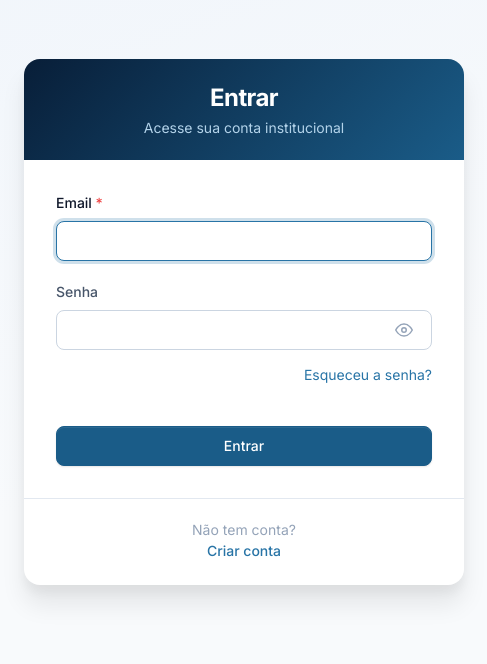
Test: LoginPage › shows fallback error message when error has no message
Type "a@b.com" into the field labelled "Email". click: x=244, y=241
box: [56, 221, 432, 261]
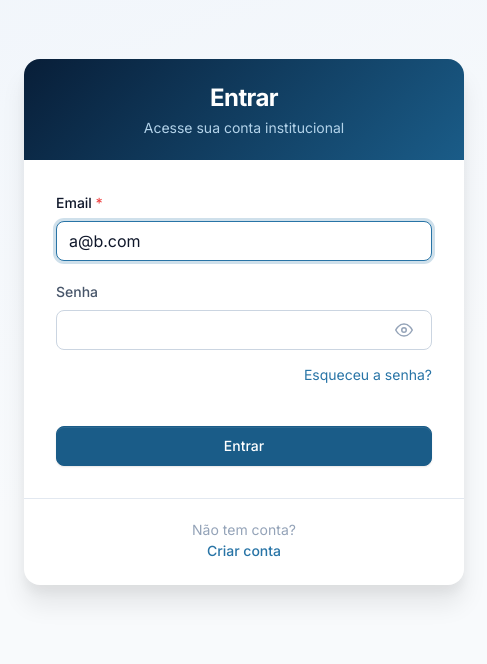
Type "x" into the password field labelled "Senha". click: x=244, y=330
box: [56, 310, 432, 350]
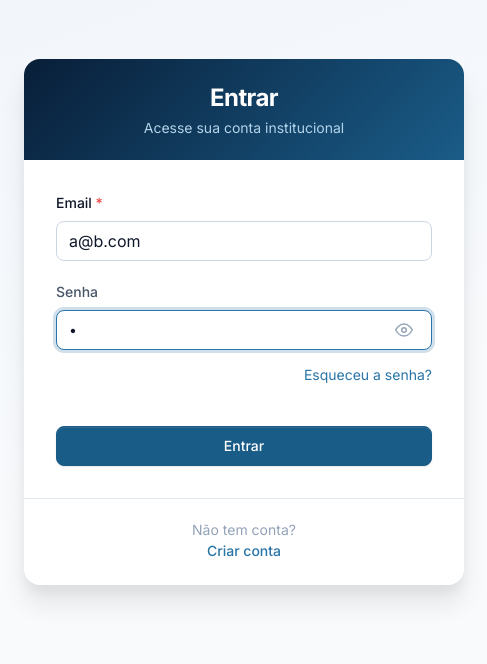
Click the button "Entrar". click: x=244, y=446
box: [56, 426, 432, 466]
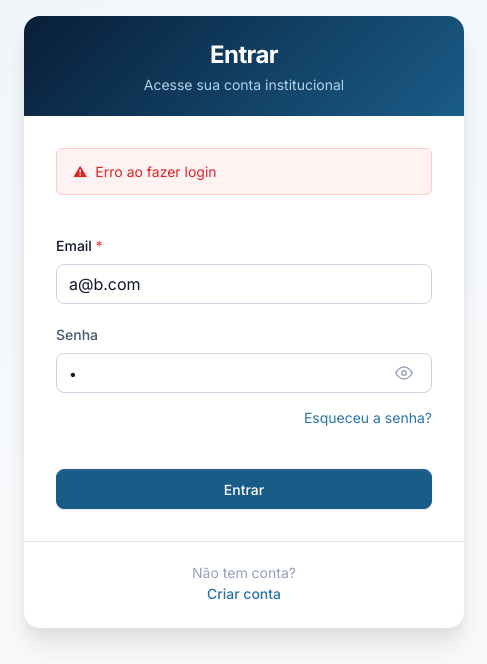
Expected: the message shows "Erro ao fazer login", [95, 163, 217, 180]
